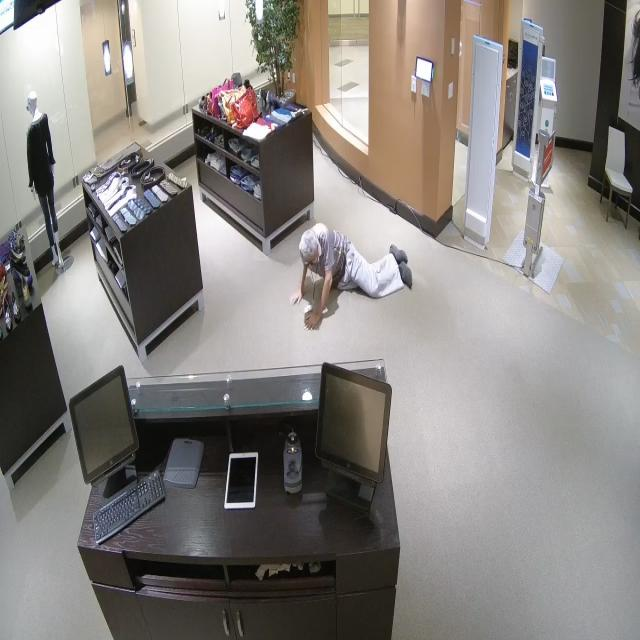fall: (279, 207, 425, 331)
